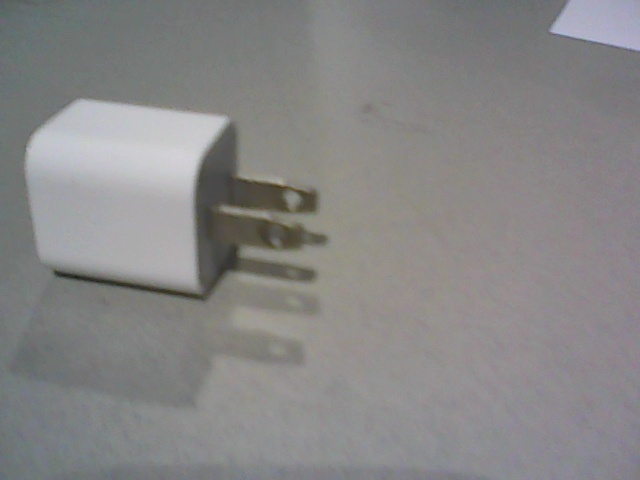charger: (24, 97, 318, 300)
